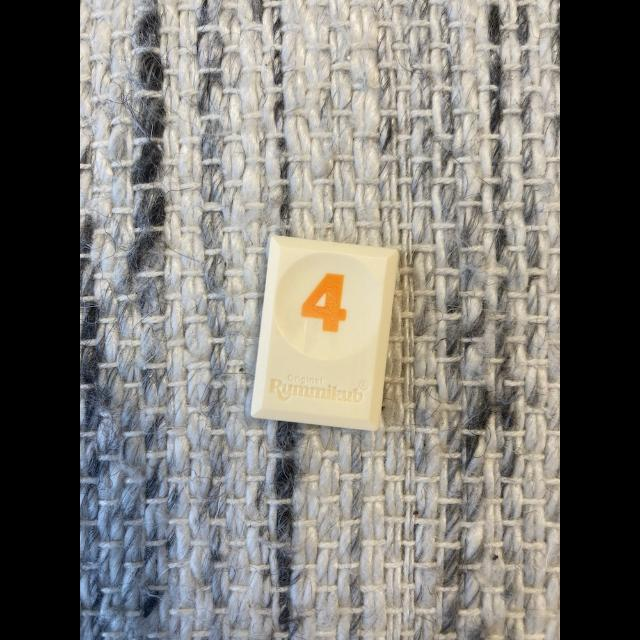orange_4: (251, 236, 399, 430)
